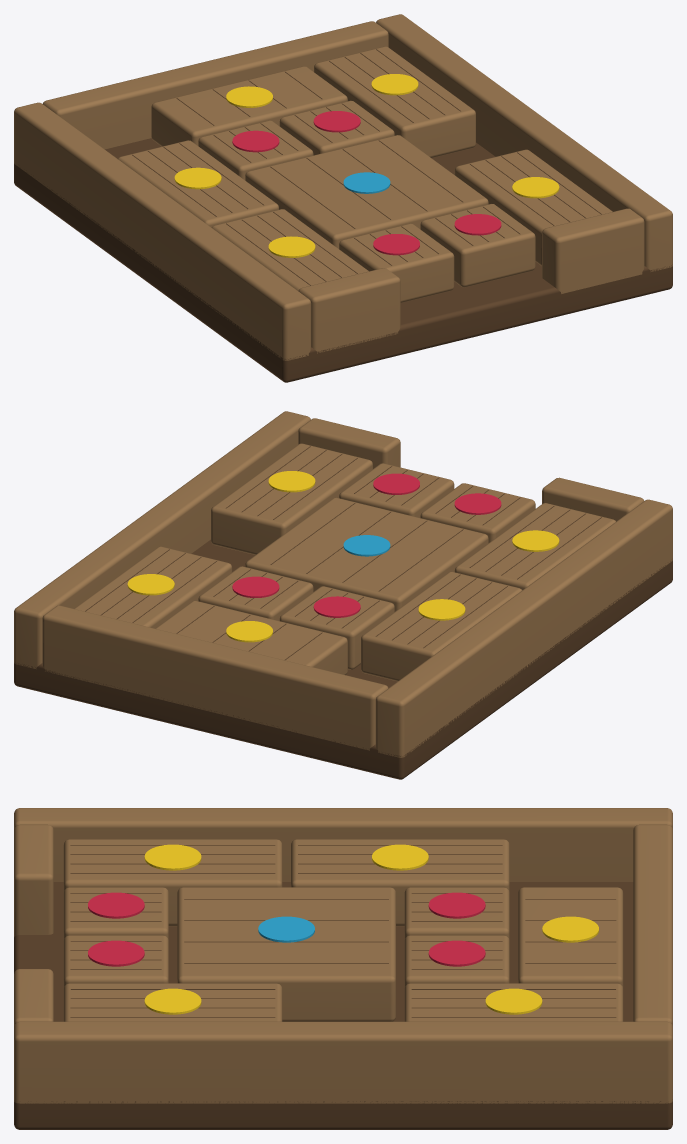
Rendered from photo-cupboard-c01.glb.
3 renders of one model, top to bottom at view 1: azimuth 30°, elevation 25°; view 2: azimuth 150°, elevation 25°; view 3: azimuth 270°, elevation 25°, orthographic. The views are drawn at different scales.
Visible parts, largest first — view 1: frame_left, tray, blue_wood, frame_right, frame_top, yellow2_wood, yellow5_wood, exit_edge.001, yellow4_wood, exit_edge, yellow1_wood, red4_wood (+14 smaller); view 2: frame_top, frame_left, tray, blue_wood, frame_right, yellow4_wood, yellow1_wood, yellow2_wood, yellow3_wood, yellow5_wood, red1_wood, red3_wood (+14 smaller); view 3: frame_right, frame_left, tray, blue_wood, yellow3_wood, yellow1_wood, yellow5_wood, frame_top, yellow2_wood, yellow4_wood, exit_edge, red3_wood (+14 smaller).
Part boxes in pixels (left/top/right/bottom): frame_left: left=14, top=102, right=311, bottom=360; tray: left=14, top=138, right=672, bottom=382; blue_wood: left=245, top=135, right=488, bottom=248; frame_right: left=376, top=14, right=672, bottom=271; frame_top: left=43, top=21, right=388, bottom=149; yellow2_wood: left=314, top=46, right=475, bottom=157; yellow5_wood: left=151, top=66, right=347, bottom=146; exit_edge.001: left=542, top=208, right=644, bottom=293; yellow4_wood: left=454, top=149, right=612, bottom=265; exit_edge: left=298, top=268, right=400, bottom=353; yellow1_wood: left=118, top=140, right=278, bottom=227; red4_wood: left=420, top=204, right=535, bottom=287; frame_top: left=42, top=605, right=388, bottom=750; frame_left: left=375, top=499, right=672, bottom=757; tray: left=14, top=539, right=672, bottom=779; blue_wood: left=245, top=497, right=488, bottom=611; frame_right: left=14, top=411, right=310, bottom=669; yellow4_wood: left=211, top=443, right=372, bottom=554; yellow1_wood: left=361, top=571, right=522, bottom=681; yellow2_wood: left=74, top=546, right=232, bottom=628; yellow3_wood: left=454, top=503, right=615, bottom=589; yellow5_wood: left=155, top=601, right=347, bottom=674; red1_wood: left=279, top=586, right=394, bottom=669; red3_wood: left=420, top=483, right=535, bottom=542; frame_right: left=14, top=1021, right=672, bottom=1103; frame_left: left=14, top=808, right=672, bottom=881; tray: left=14, top=882, right=672, bottom=1129; blue_wood: left=177, top=887, right=395, bottom=1021; yellow3_wood: left=63, top=839, right=282, bottom=926; yellow1_wood: left=291, top=839, right=509, bottom=926; yellow5_wood: left=518, top=887, right=623, bottom=988; frame_top: left=633, top=824, right=672, bottom=1026; yellow2_wood: left=404, top=983, right=623, bottom=1021; yellow4_wood: left=63, top=983, right=282, bottom=1021; exit_edge: left=14, top=824, right=53, bottom=936; red3_wood: left=63, top=887, right=168, bottom=940.
Bounding box in the file's own units: 0.192 × 0.037 × 0.232.
